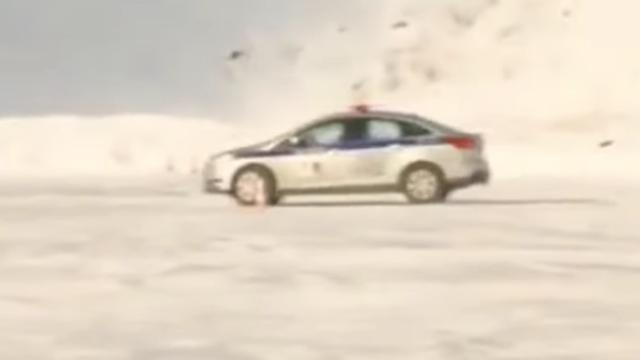police car: (200, 98, 495, 210)
